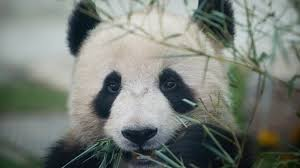panda: (57, 0, 245, 167)
